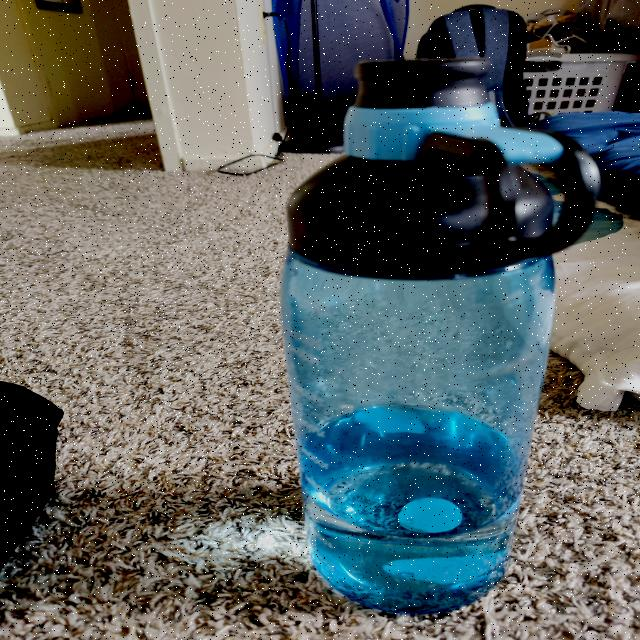bottle: (275, 61, 596, 614)
